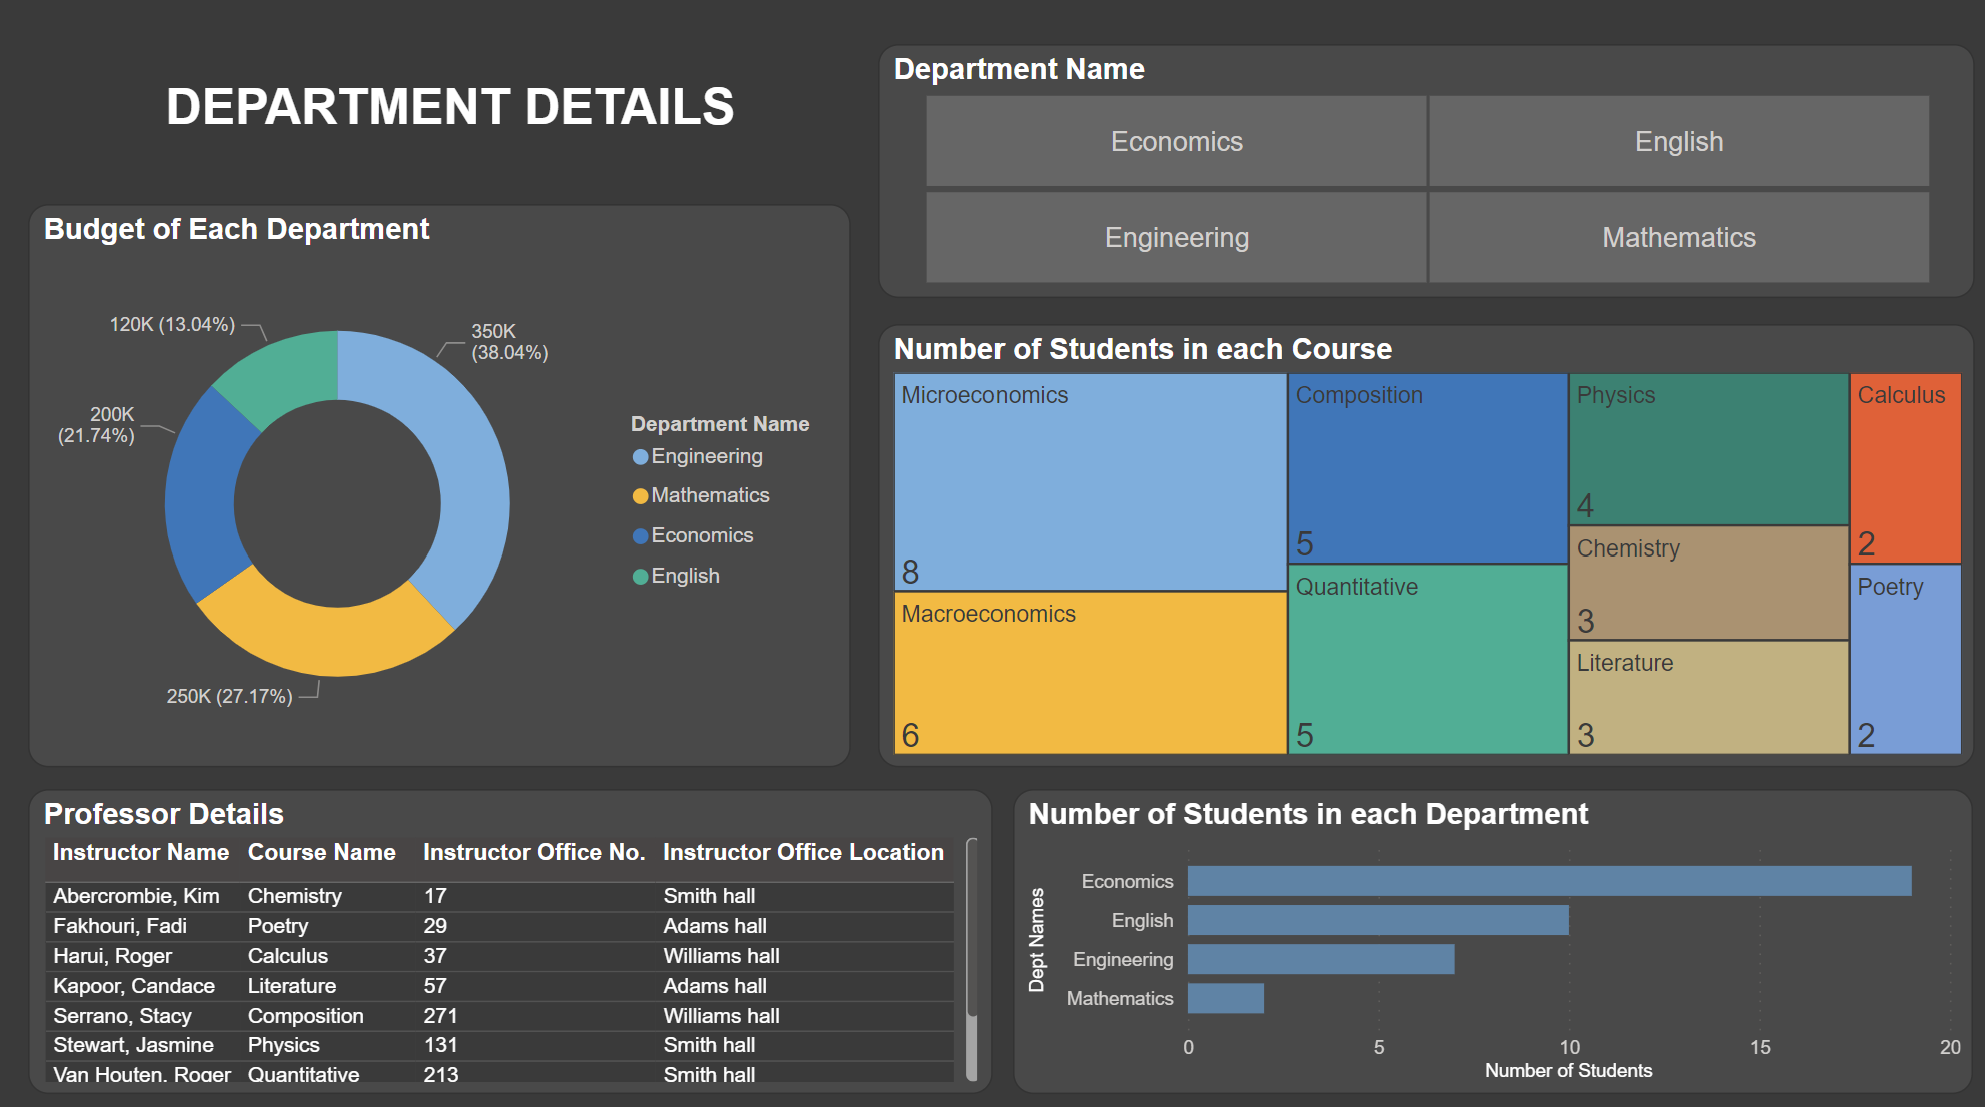

The page's visual inventory and layout, read from the dashboard file:
{"tool":"powerbi","page":{"name":"Department Details","canvas":[1280,720],"ordinal":2},"visuals":[{"type":"tableEx","title":"Professor Details","fields":{"Values":["DIM_INSTRUCTOR.INSTRUCTOR_NAME","DIM_COURSE.COURSE_TITLE","DIM_INSTRUCTOR.INSTRUCTOR_OFFICE_NO","DIM_INSTRUCTOR.INSTRUCTOR_OFFICE_BUILDING"]},"box":[24.8,507,615.2,194.3],"z":0},{"type":"slicer","title":"Department Name","fields":{"Values":["DIM_DEPARTMENT.DEPARTMENT_NAME"]},"box":[565.5,33.6,698.4,162.2],"z":1000},{"type":"donutChart","title":"Budget of Each Department","fields":{"Category":["DIM_DEPARTMENT.DEPARTMENT_NAME"],"Y":["DIM_DEPARTMENT.BUDGET"]},"box":[24.3,135.7,524.3,358.6],"z":2000},{"type":"clusteredBarChart","title":"Number of Students in each Department","fields":{"Category":["DIM_DEPARTMENT.DEPARTMENT_NAME"],"Y":["FACT_STUDENT_GRADE.STUDENTID"]},"box":[651.7,507,612.2,194.3],"z":3000},{"type":"treemap","title":"Number of Students in each Course","fields":{"Values":["FACT_STUDENT_GRADE.STUDENTID"],"Group":["DIM_COURSE.COURSE_TITLE"]},"box":[565.5,211.9,698.4,282],"z":4000},{"type":"textbox","box":[24.3,50,538.6,47.1],"z":5000}]}

Visuals, with their boxes in screenshot pixels (x1, y1, x2, y2), scaled from the page's 1280x720 canvas onto the 1986x1108 screenshot:
"Professor Details" tableEx: bbox=(38, 780, 993, 1079)
"Department Name" slicer: bbox=(877, 52, 1961, 301)
"Budget of Each Department" donutChart: bbox=(38, 209, 851, 761)
"Number of Students in each Department" clusteredBarChart: bbox=(1011, 780, 1961, 1079)
"Number of Students in each Course" treemap: bbox=(877, 326, 1961, 760)
textbox: bbox=(38, 77, 873, 149)
